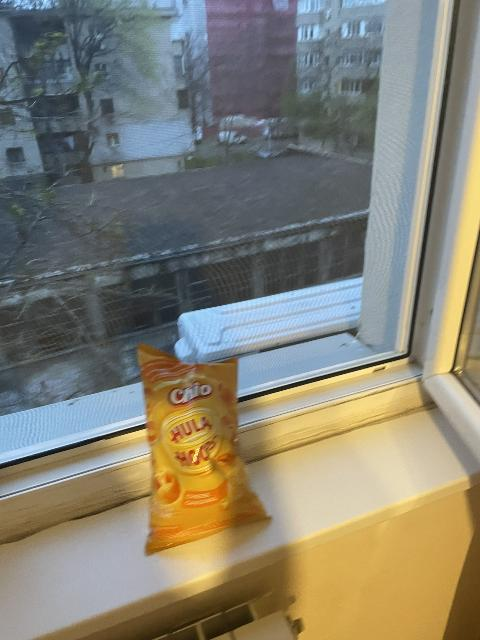Chio Hula Hoops Cheese 70g: (138, 346, 274, 556)
